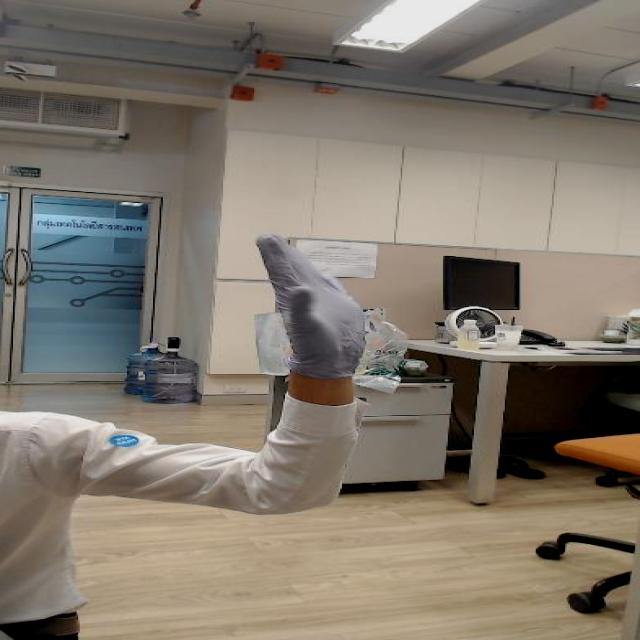glove: (240, 216, 392, 349)
